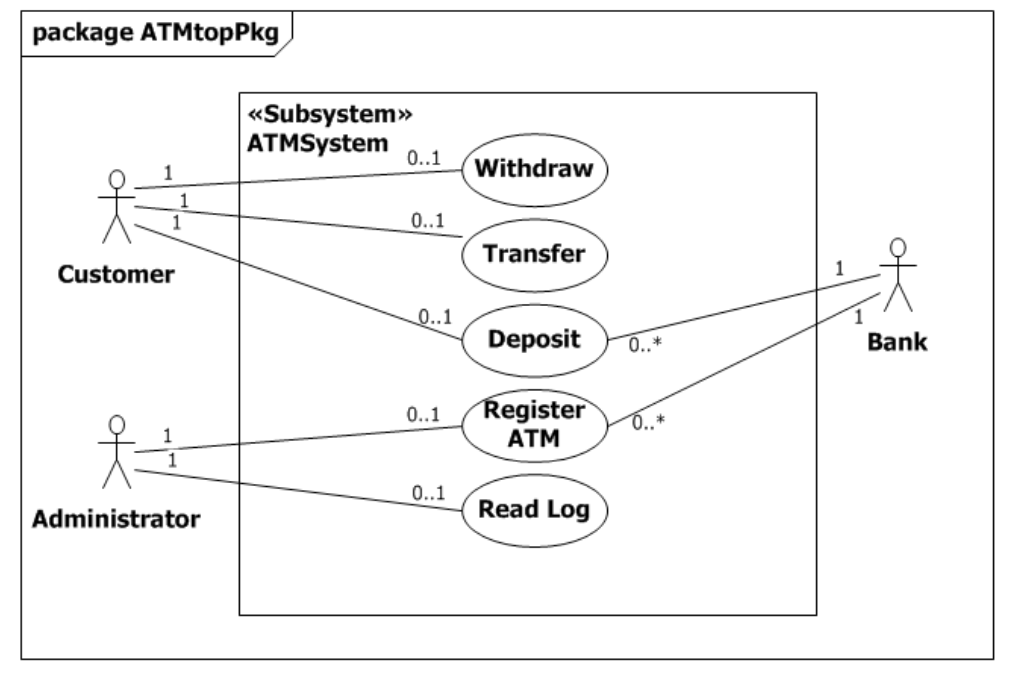actor: (90, 168, 136, 247), (93, 410, 137, 492), (878, 234, 919, 318)
association: (135, 222, 456, 344), (607, 292, 878, 430), (609, 272, 882, 343), (131, 465, 462, 520), (134, 201, 463, 244), (133, 421, 460, 455), (134, 167, 462, 193)
text: (241, 98, 417, 154), (28, 18, 283, 52), (28, 503, 207, 538), (481, 396, 589, 450), (56, 260, 181, 295), (470, 493, 596, 526), (471, 154, 597, 186), (479, 238, 598, 268), (485, 326, 590, 354), (866, 329, 944, 358), (399, 206, 454, 230), (402, 399, 446, 425), (407, 478, 451, 504), (418, 302, 457, 329), (407, 147, 448, 169), (629, 415, 675, 434), (628, 336, 669, 353), (153, 425, 182, 445), (161, 210, 185, 233), (157, 162, 182, 183), (827, 257, 848, 279), (163, 449, 185, 469), (852, 306, 868, 327), (178, 190, 194, 208)
use_case: (459, 386, 612, 466), (459, 130, 611, 210), (459, 301, 612, 380), (459, 216, 611, 294), (460, 473, 609, 550)
